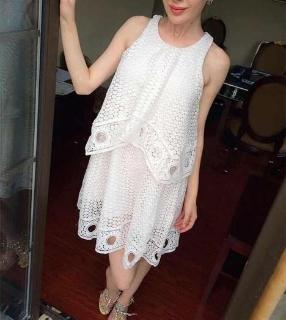skirt: (77, 116, 189, 270)
vest dress: (85, 15, 214, 184)
